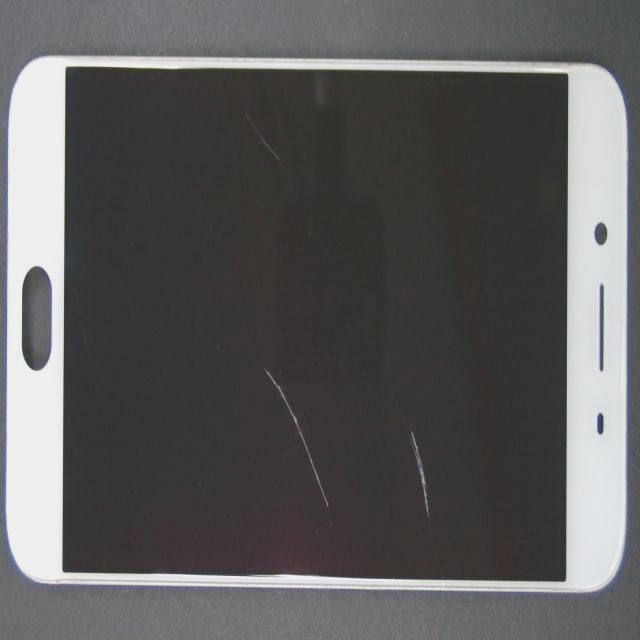scratch: (221, 305, 640, 640), (211, 338, 478, 640)
